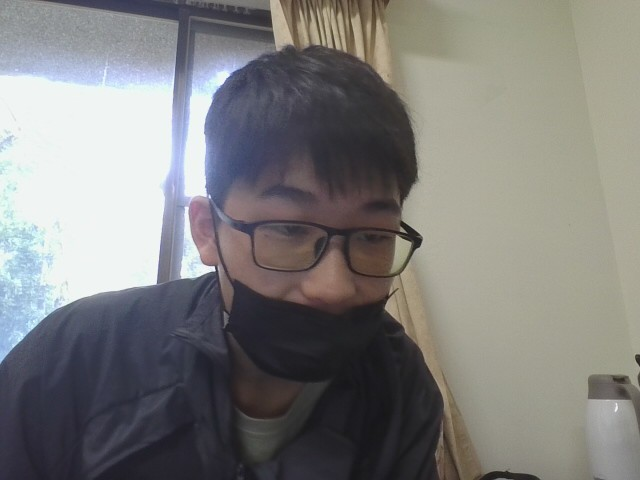No_Helmet: (190, 38, 422, 324)
person: (0, 29, 561, 480)
